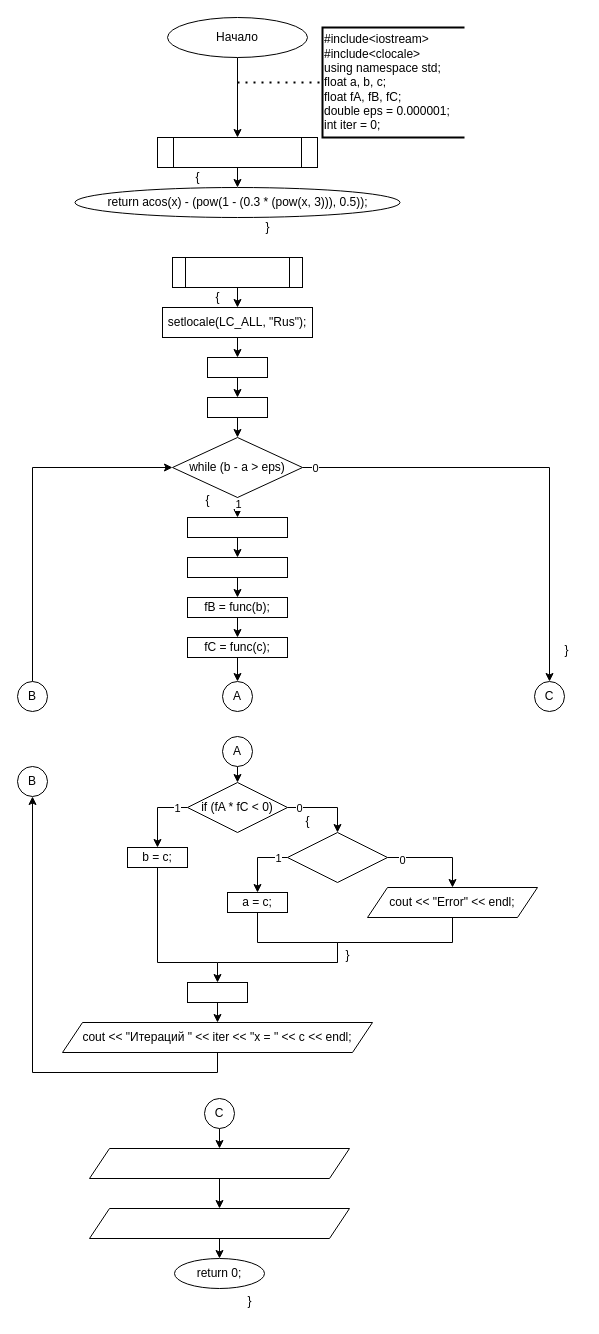
Some shapes in this 599 by 1334 pixel diagram are drawn without their labels. The shapes that lost their labels are listed below. From the top down, each one's box as (x1, y1, x2, y2) in pixels, then its label:
(156, 136, 318, 168): double func(double x)
(172, 256, 302, 288): int main()
(206, 356, 268, 378): a = 0;
(206, 396, 268, 418): b= 1;
(186, 516, 288, 538): c = (a + b) / 2;
(186, 556, 288, 578): fA = func(a);
(286, 832, 388, 882): if (fC * fB < 0)
(186, 982, 248, 1002): iter++;
(88, 1148, 350, 1178): cout << "Корень: " << c << endl;
(88, 1208, 350, 1238): cout << "Временных тиков: " << clock();
